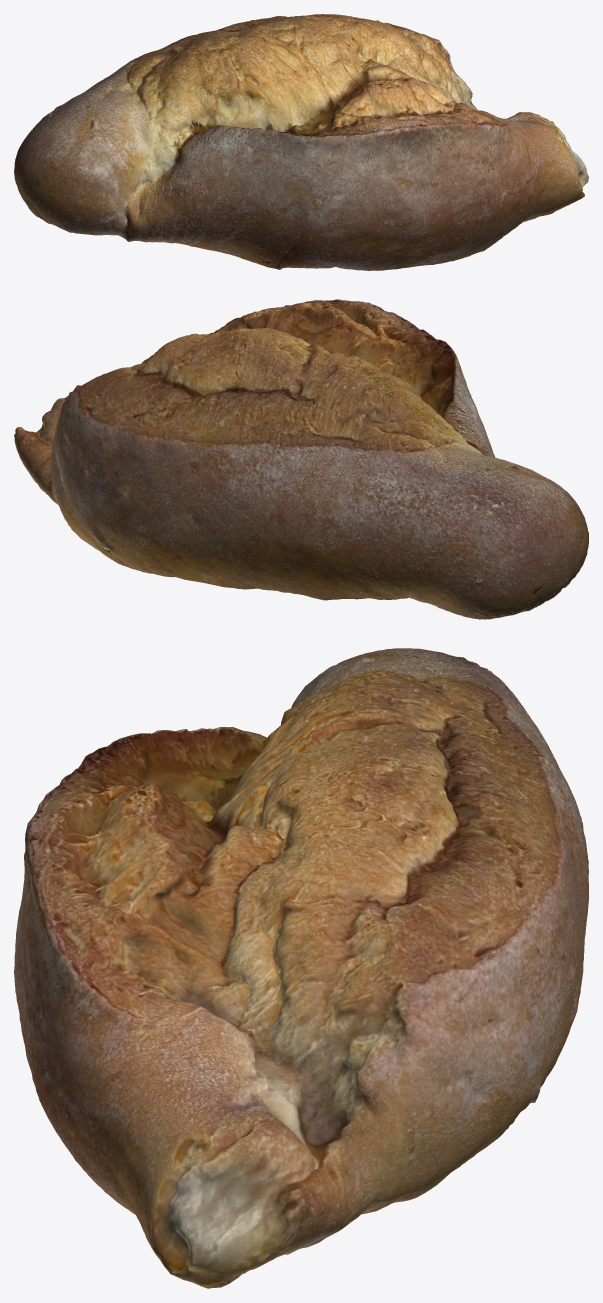
File: bolipngrgb.glb
3 renders of one model, top to bottom at view 1: azimuth 30°, elevation 25°; view 2: azimuth 150°, elevation 25°; view 3: azimuth 270°, elevation 25°, orthographic. The views are drawn at different scales.
Visible parts, largest first — view 1: baked_mesh; view 2: baked_mesh; view 3: baked_mesh.
Boxes of the visible parts, x1,y1,x2,y2 form: baked_mesh: [14, 14, 588, 270]; baked_mesh: [14, 299, 588, 619]; baked_mesh: [14, 648, 588, 1288].
Bounding box in the file's own units: 5.02 × 2.04 × 2.8.
1 material, 1 textured.
